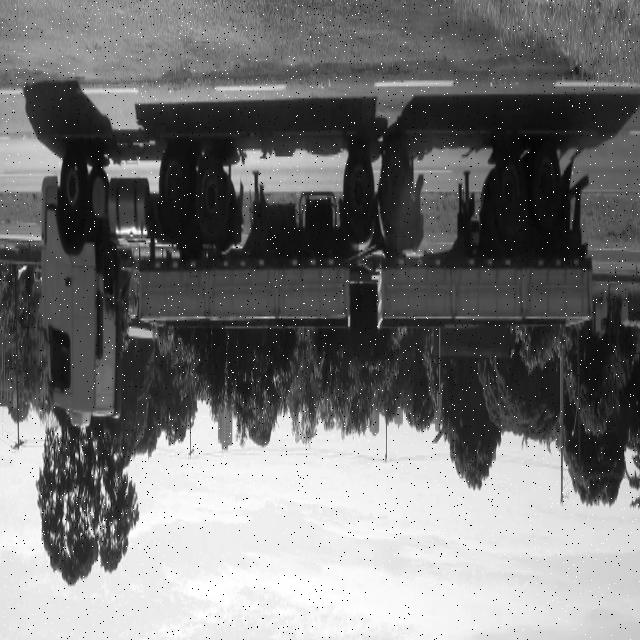-axle: (157, 137, 193, 244), (491, 138, 526, 243), (193, 144, 227, 245), (527, 140, 561, 238), (379, 140, 412, 238), (342, 146, 375, 238), (59, 141, 88, 226)
